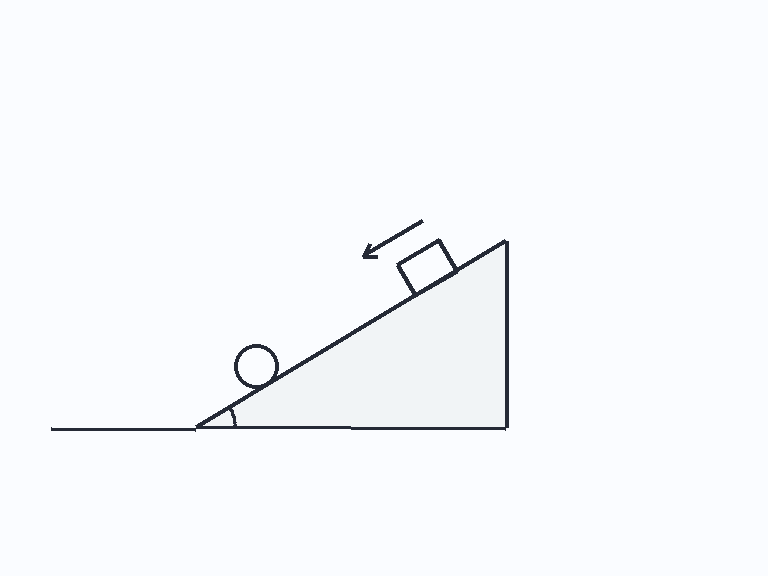ball: (232, 342, 280, 390)
block: (395, 238, 459, 298)
ramp: (193, 239, 508, 430)
